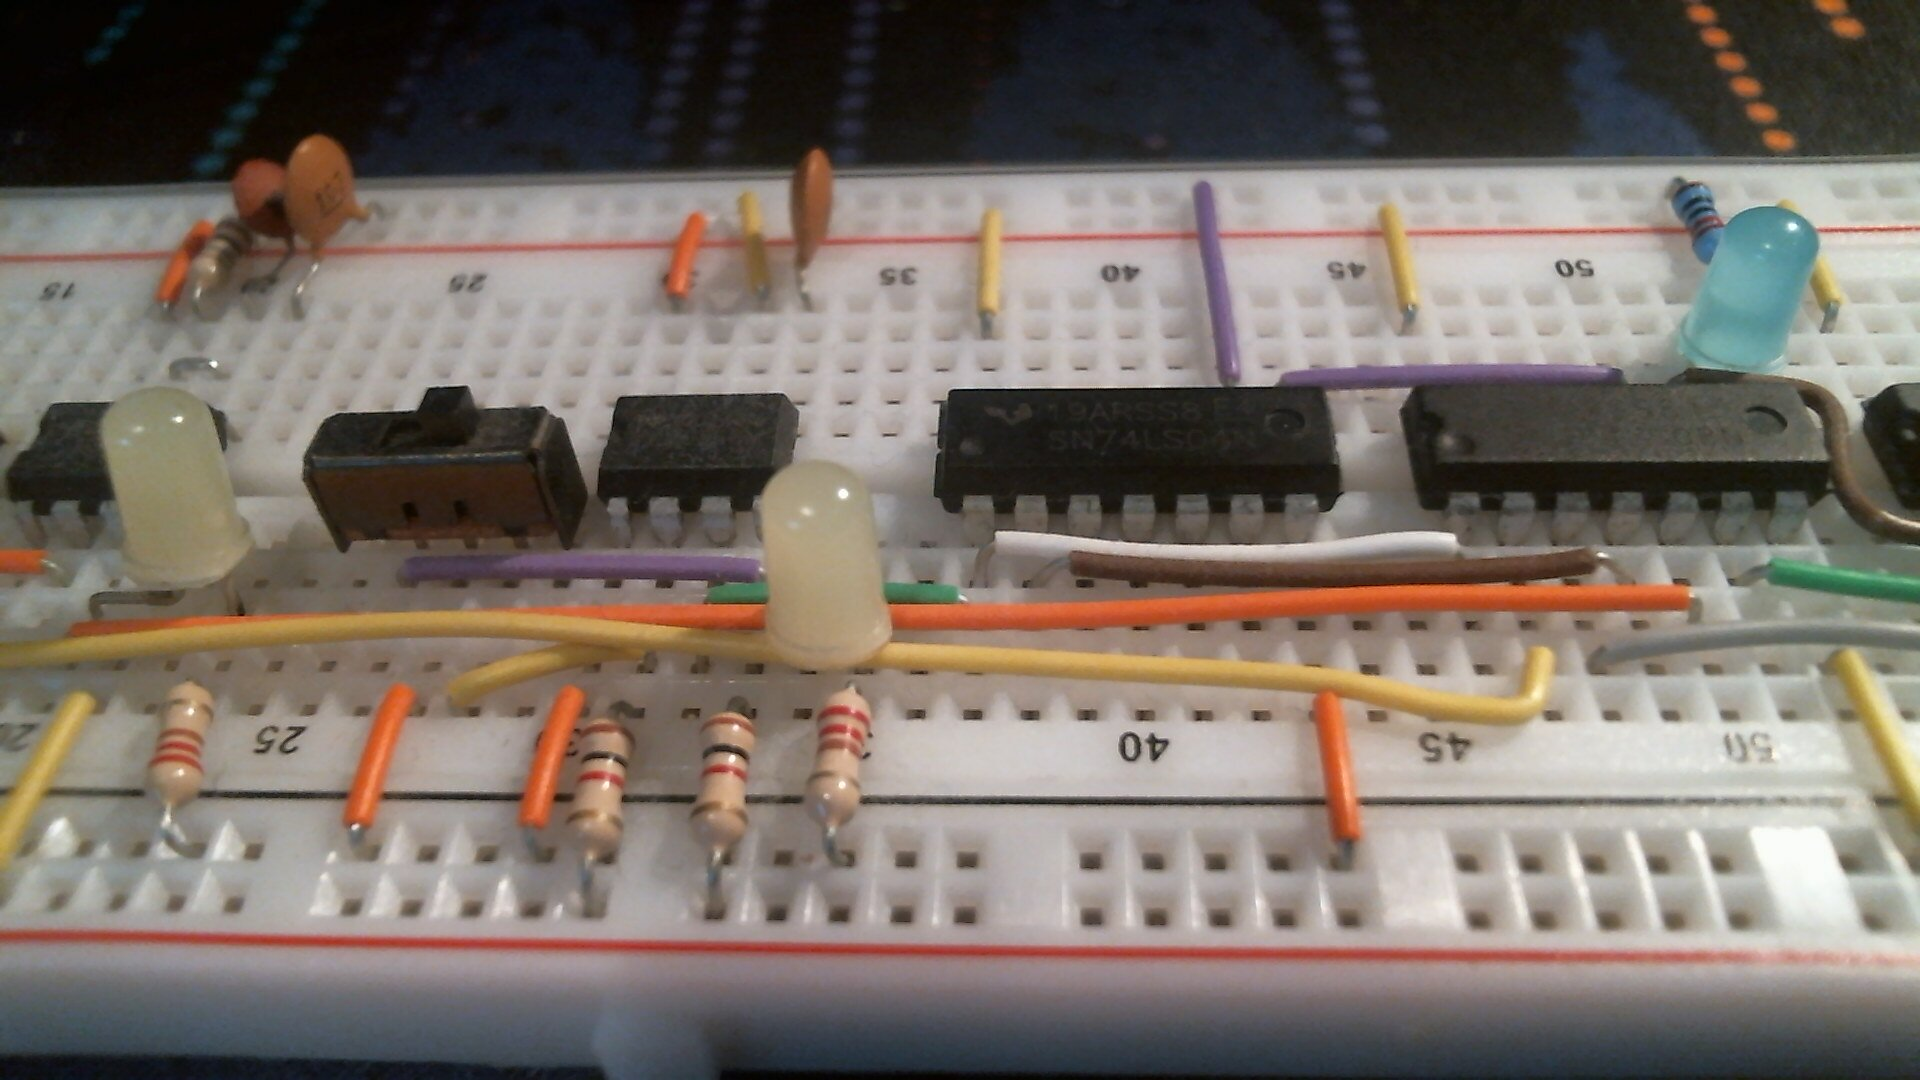IC: (1398, 378, 1836, 531), (931, 385, 1346, 530)
LED: (96, 382, 257, 591), (757, 459, 894, 676), (1675, 204, 1821, 375)
ceramic_capacitor: (281, 129, 373, 261), (786, 144, 835, 290)
resistor: (800, 682, 874, 862), (562, 700, 637, 874), (145, 679, 218, 849), (688, 700, 756, 878), (1668, 174, 1727, 261), (186, 216, 249, 294)
